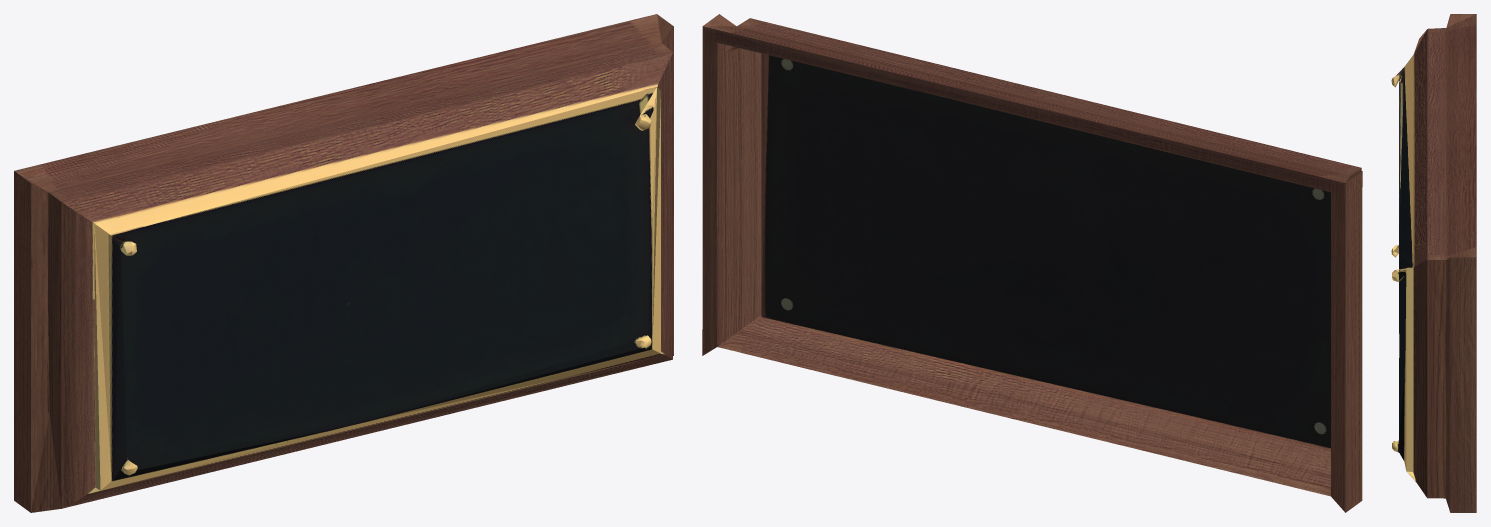
File: ENV_BlankRoomSign.fbx
3 views of the same model, side by side, from view 1: azimuth 30°, elevation 25°; view 2: azimuth 150°, elevation 25°; view 3: azimuth 270°, elevation 25° (orthographic). The views are drawn at different scales.
Parts seen in each view (by area): view 1: Mesh_0; view 2: Mesh_0; view 3: Mesh_0.
Boxes of the visible parts, box(x1,y1,x2,y2) form: Mesh_0: box(14, 14, 673, 512); Mesh_0: box(702, 14, 1362, 512); Mesh_0: box(1391, 14, 1476, 512).
Bounding box in the file's own units: 190 × 93.06 × 28.08.
Materials: 1 (1 with a texture image).
